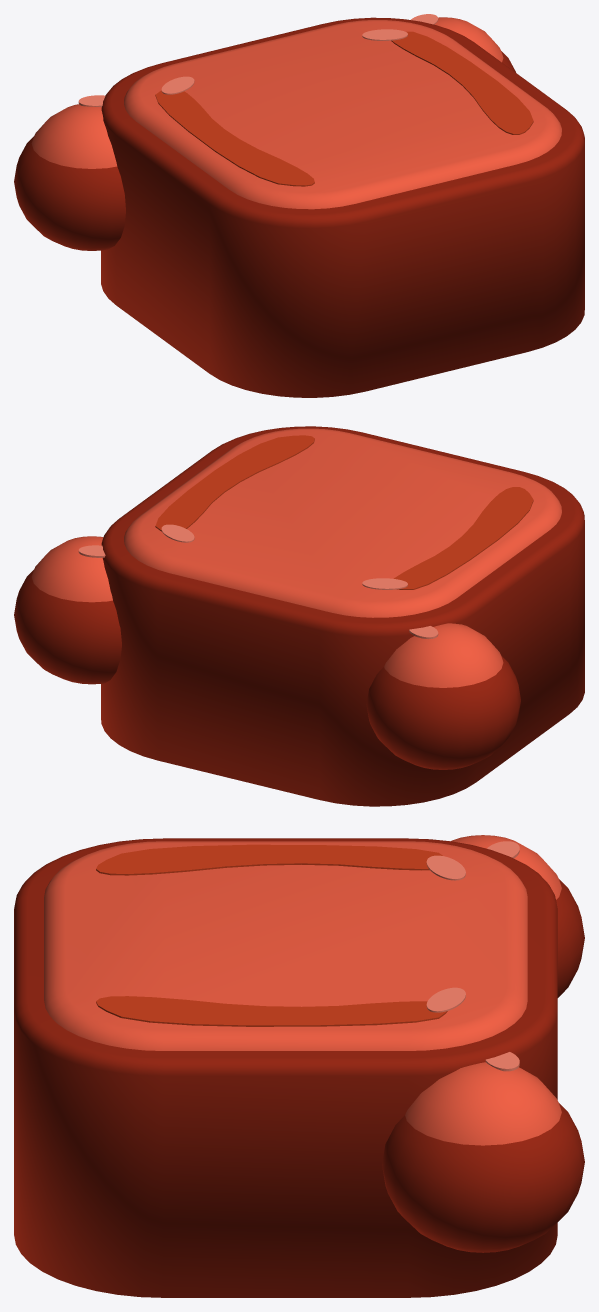
Rendered from body_basico_laranja.fbx.
3 renders of one model, top to bottom at view 1: azimuth 30°, elevation 25°; view 2: azimuth 150°, elevation 25°; view 3: azimuth 270°, elevation 25°, orthographic. The views are drawn at different scales.
Parts seen in each view (by area): view 1: body_basico_laranja_corpo, body_basico_laranja_mao_esq, body_basico_laranja_mao; view 2: body_basico_laranja_corpo, body_basico_laranja_mao_esq, body_basico_laranja_mao; view 3: body_basico_laranja_corpo, body_basico_laranja_mao, body_basico_laranja_mao_esq.
Part boxes in pixels (x1,y1,x2,y2): body_basico_laranja_corpo: (101, 17, 584, 397); body_basico_laranja_mao_esq: (14, 95, 125, 250); body_basico_laranja_mao: (411, 14, 515, 72); body_basico_laranja_corpo: (101, 426, 584, 806); body_basico_laranja_mao_esq: (366, 623, 520, 769); body_basico_laranja_mao: (14, 536, 121, 684); body_basico_laranja_corpo: (14, 838, 557, 1297); body_basico_laranja_mao: (382, 1052, 584, 1252); body_basico_laranja_mao_esq: (451, 835, 584, 997).
Size of the model in its own units: 5.4 by 2.03 by 4.2.
Materials: 1 (1 with a texture image).
